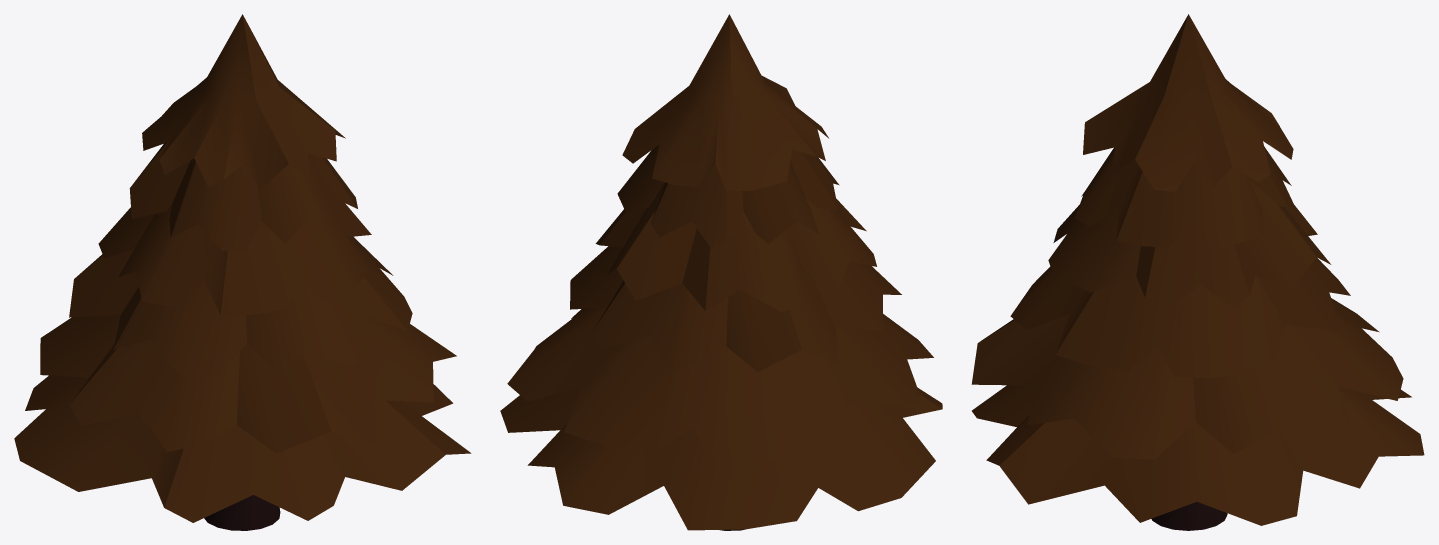
Rendered from lowpolyconifer_RJ_2609.fbx.
3 views of the same model, side by side, from view 1: azimuth 30°, elevation 25°; view 2: azimuth 150°, elevation 25°; view 3: azimuth 270°, elevation 25° (orthographic).
Parts seen in each view (by area): view 1: Circle.003; view 2: Circle.003; view 3: Circle.003.
Part boxes in pixels (x1,y1,x2,y2): Circle.003: [14, 14, 471, 530]; Circle.003: [500, 14, 942, 530]; Circle.003: [971, 14, 1424, 530].
Bounding box in the file's own units: 891 × 1092 × 895.
